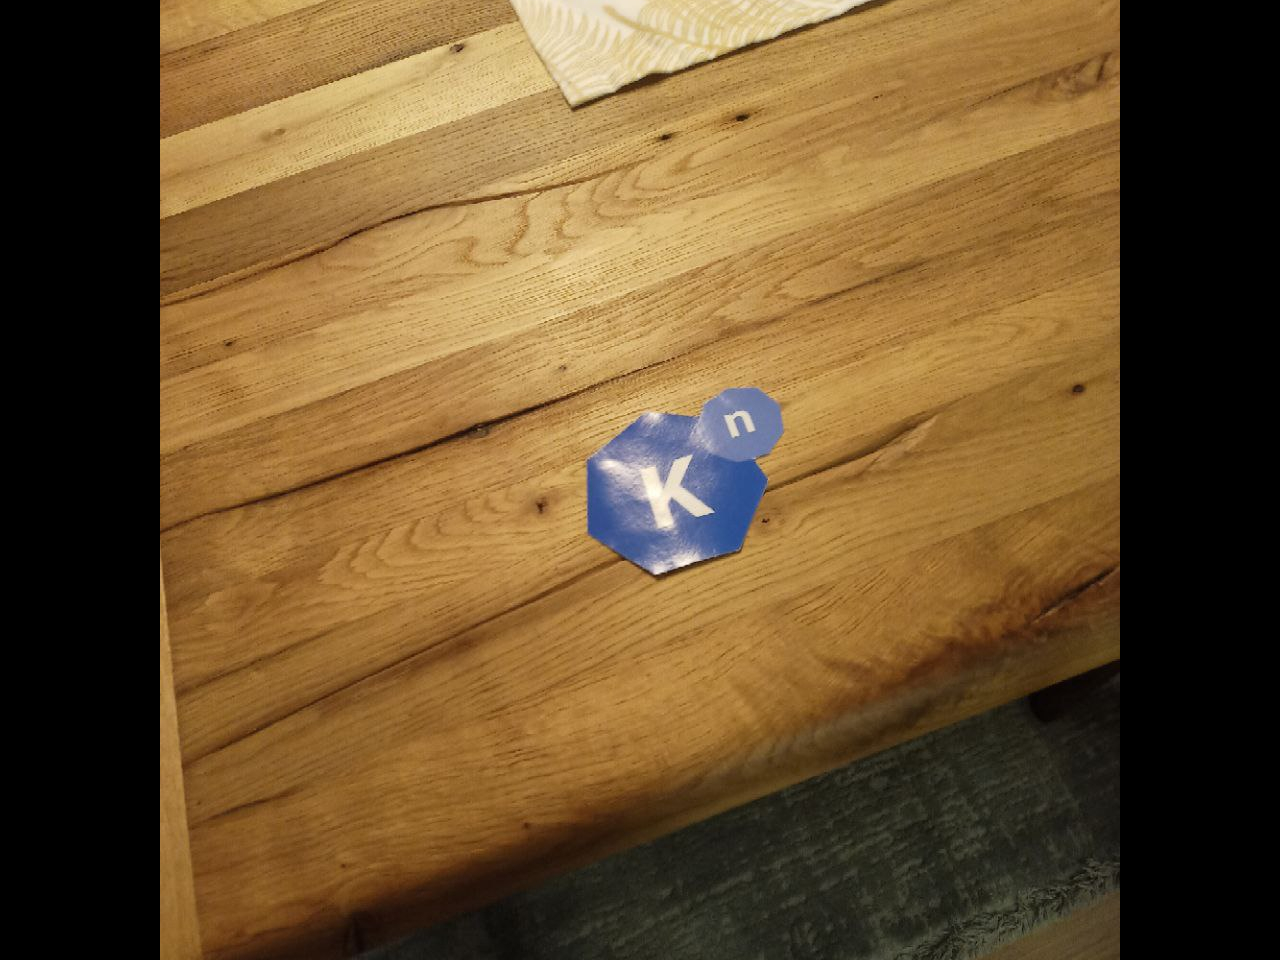knative: (583, 387, 783, 579)
